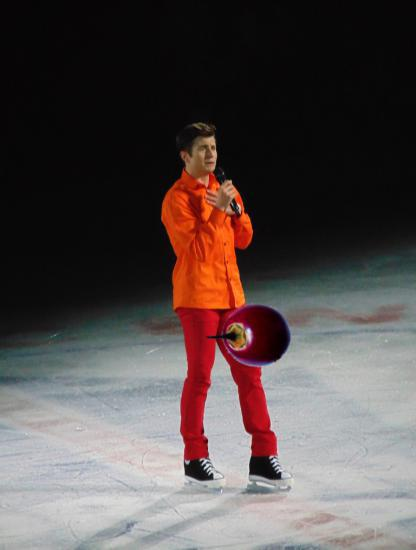Tamarillo: (216, 300, 292, 376)
